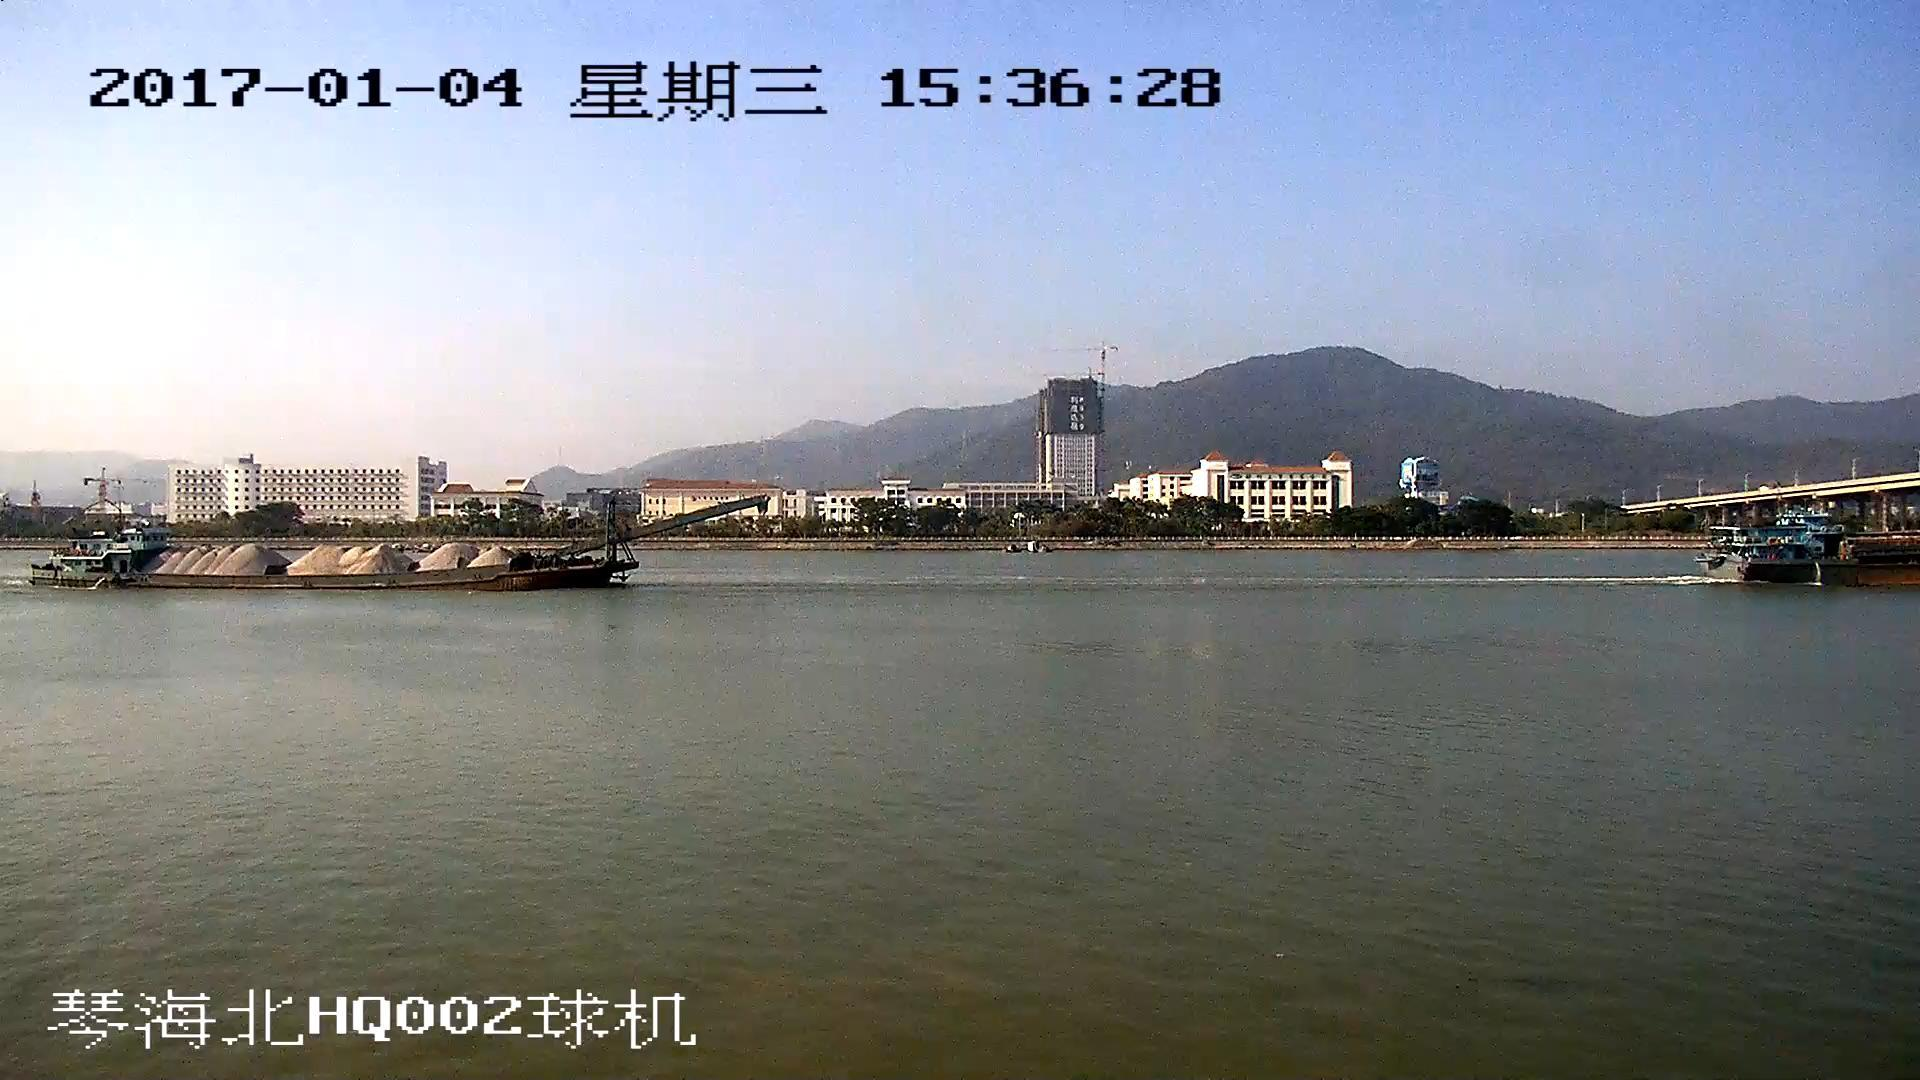Ship: (32, 496, 766, 589), (1709, 527, 1920, 589)
